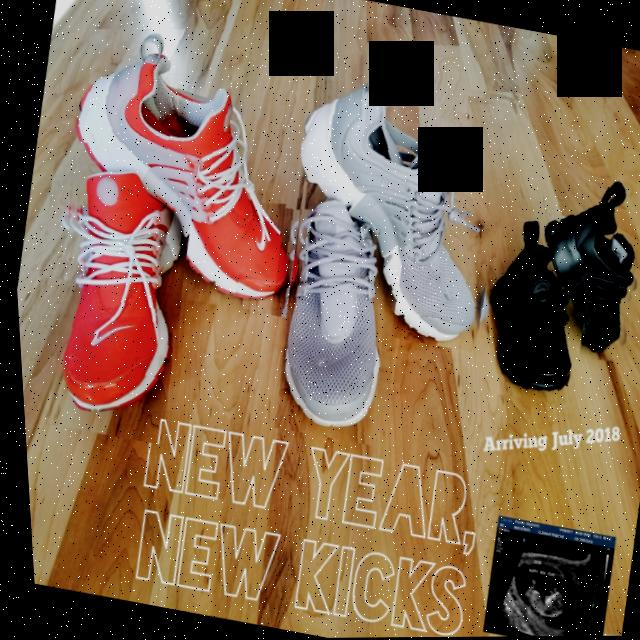shoe: (24, 4, 344, 325), (256, 51, 533, 357), (22, 141, 210, 446), (254, 182, 420, 449), (460, 205, 603, 410), (509, 168, 640, 370)
